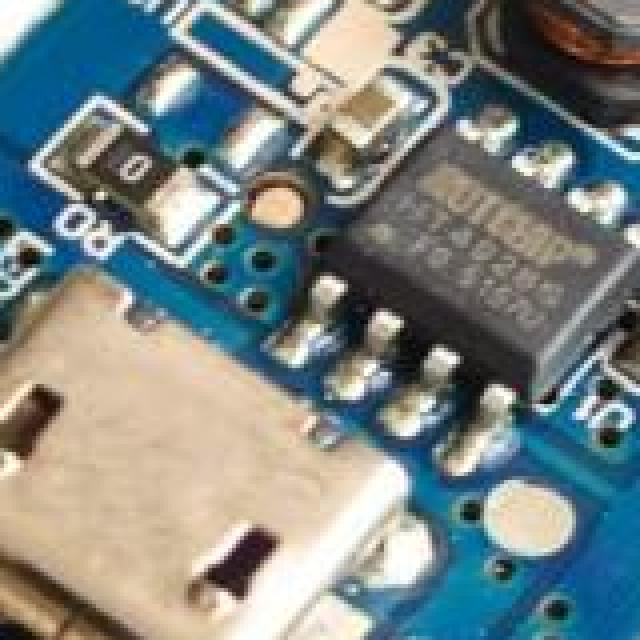IC: (332, 120, 640, 400)
capacitor: (320, 68, 414, 160)
connector: (0, 288, 424, 640)
inductor: (492, 0, 640, 92)
resistor: (96, 108, 218, 252)
